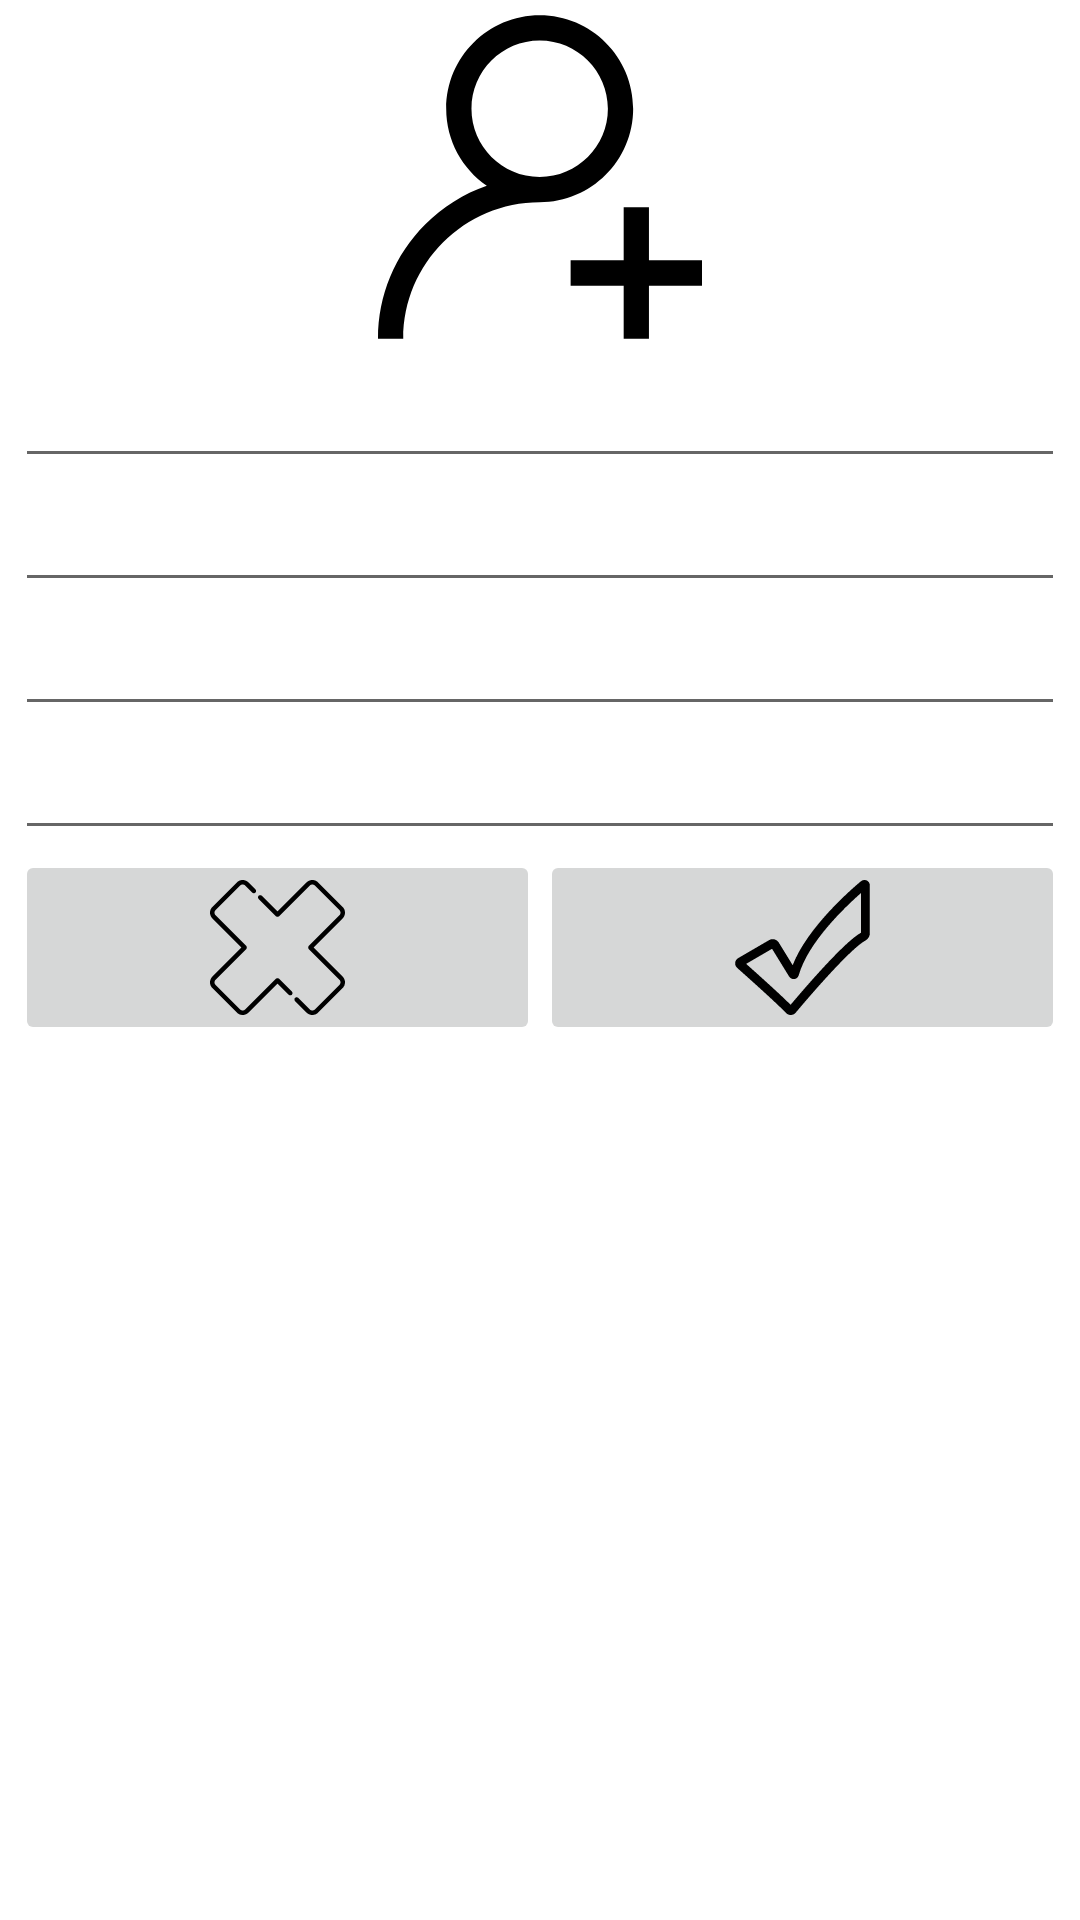

Icons on this 1080px x 1920px Android screen, each with the point to tap as point (x, y):
matricula alumno: point (540, 177)
